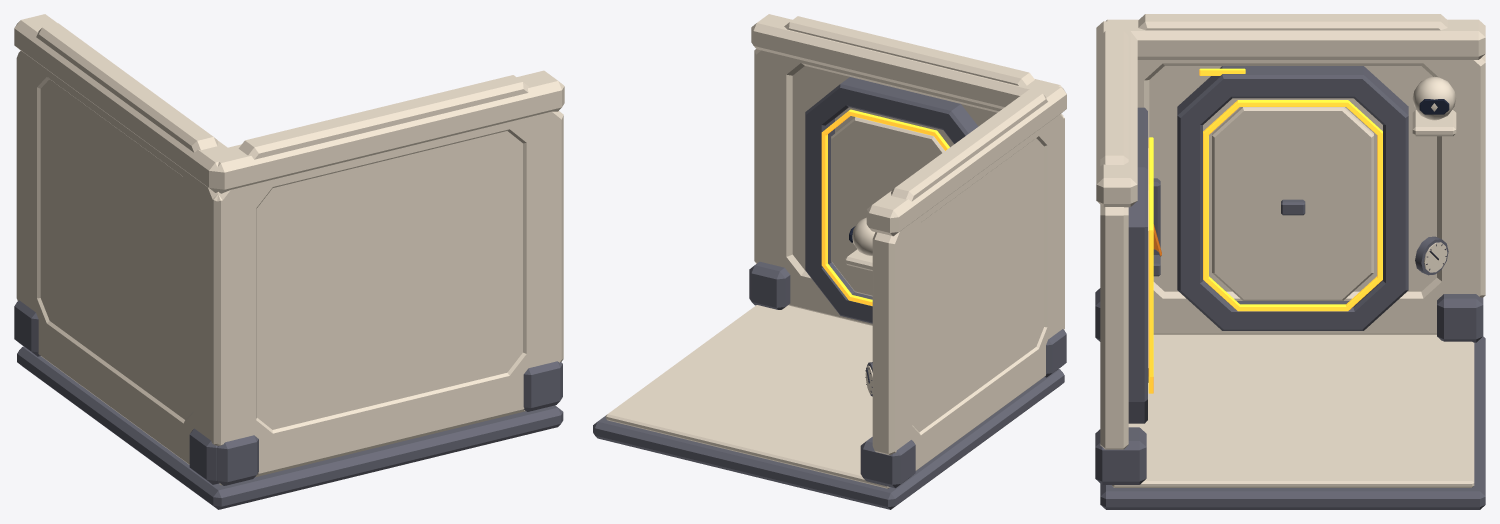
File: airlock-interior.glb
3 renders of one model, left to right at view 1: azimuth 30°, elevation 25°; view 2: azimuth 150°, elevation 25°; view 3: azimuth 270°, elevation 25°, orthographic. The views are drawn at different scales.
Parts seen in each view (by area): view 1: outer_wall_smooth-structure, inner_wall_smooth-structure, Slate floor foundation, outer_wall_smooth-structure_structure-gray, inner_wall_smooth-structure_structure-gray; view 2: inner_wall_smooth-structure, airlock-interior_smooth-structure, outer_wall_smooth-structure, outer_wall_smooth-structure_structure-gray, Slate floor foundation, Ivory pressure leaf, inner_wall_smooth-structure_structure-gray, Amber pressure gasket; view 3: airlock-interior_smooth-structure, inner_wall_smooth-structure, Ivory pressure leaf, inner_wall_smooth-structure_structure-gray, outer_wall_smooth-structure, Slate floor foundation, outer_wall_smooth-structure_structure-gray, Amber pressure gasket (×2), Ivory gauge dial, Gauge case, Lever mounting rail.
Boxes of the visible parts, bbox=[...] form: outer_wall_smooth-structure: bbox=[212, 70, 564, 476]; inner_wall_smooth-structure: bbox=[14, 14, 239, 464]; Slate floor foundation: bbox=[17, 346, 563, 509]; outer_wall_smooth-structure_structure-gray: bbox=[217, 361, 562, 485]; inner_wall_smooth-structure_structure-gray: bbox=[14, 300, 219, 484]; inner_wall_smooth-structure: bbox=[866, 82, 1066, 470]; airlock-interior_smooth-structure: bbox=[605, 217, 889, 488]; outer_wall_smooth-structure: bbox=[751, 14, 1064, 329]; outer_wall_smooth-structure_structure-gray: bbox=[749, 77, 978, 323]; Slate floor foundation: bbox=[593, 369, 1064, 509]; Ivory pressure leaf: bbox=[831, 117, 944, 296]; inner_wall_smooth-structure_structure-gray: bbox=[860, 329, 1066, 488]; Amber pressure gasket: bbox=[821, 109, 949, 305]; airlock-interior_smooth-structure: bbox=[1112, 76, 1474, 487]; inner_wall_smooth-structure: bbox=[1106, 14, 1485, 334]; Ivory pressure leaf: bbox=[1212, 107, 1373, 300]; inner_wall_smooth-structure_structure-gray: bbox=[1177, 66, 1483, 342]; outer_wall_smooth-structure: bbox=[1096, 21, 1137, 449]; Slate floor foundation: bbox=[1100, 336, 1485, 509]; outer_wall_smooth-structure_structure-gray: bbox=[1095, 107, 1147, 484]; Amber pressure gasket (×2): bbox=[1148, 100, 1382, 393]; Ivory gauge dial: bbox=[1424, 242, 1447, 272]; Gauge case: bbox=[1415, 236, 1448, 275]; Lever mounting rail: bbox=[1153, 178, 1160, 247].
Size of the model in its own units: 3.04 by 2.9 by 3.04.
